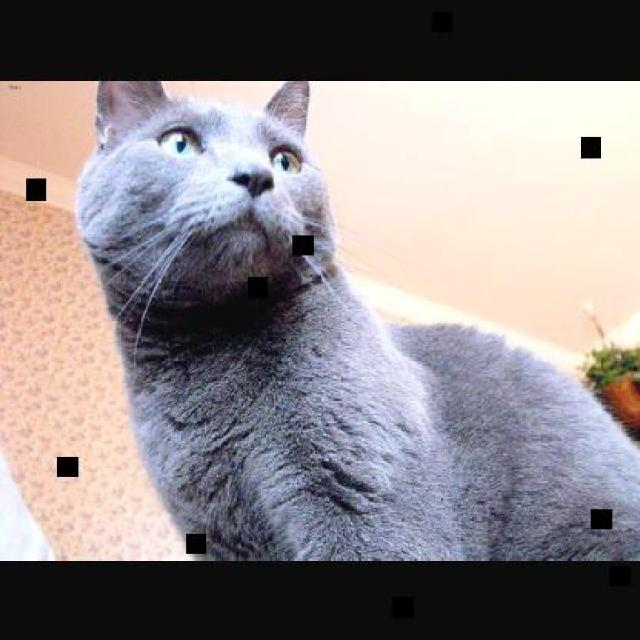unauthorized: (72, 77, 638, 560)
